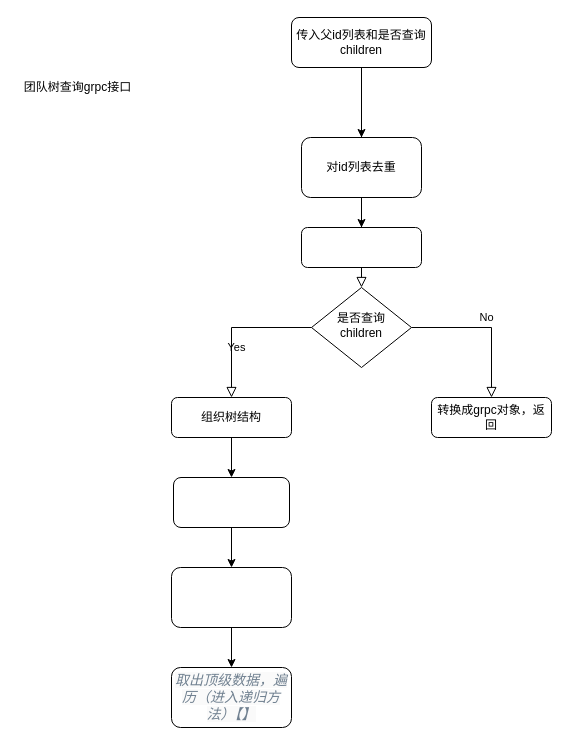
Some shapes in this 569 by 745 pixel diagram are drawn without their labels. The shapes that lost their labels are listed below. From the top down, each one's centre as x and y in pixels, then its label:
[361,247]: 根据列表查询数据库
[231,502]: 查询所有group
[231,597]: 按照父级ID分组（map）
